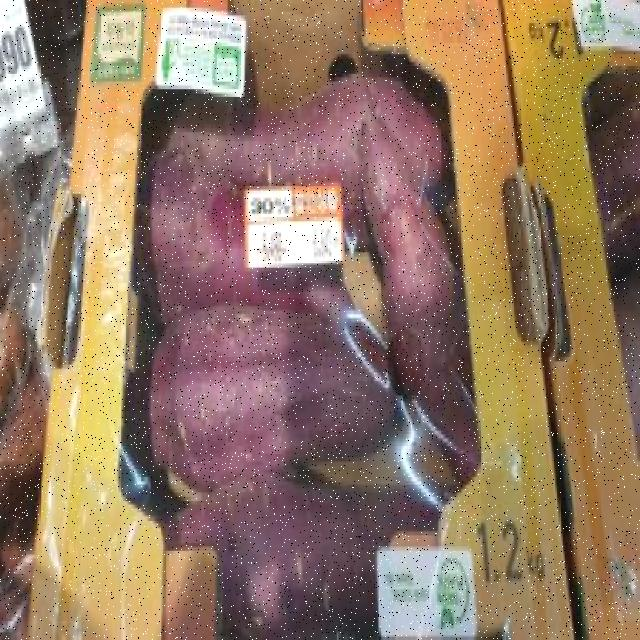Sweet Potato: (48, 0, 577, 637)
